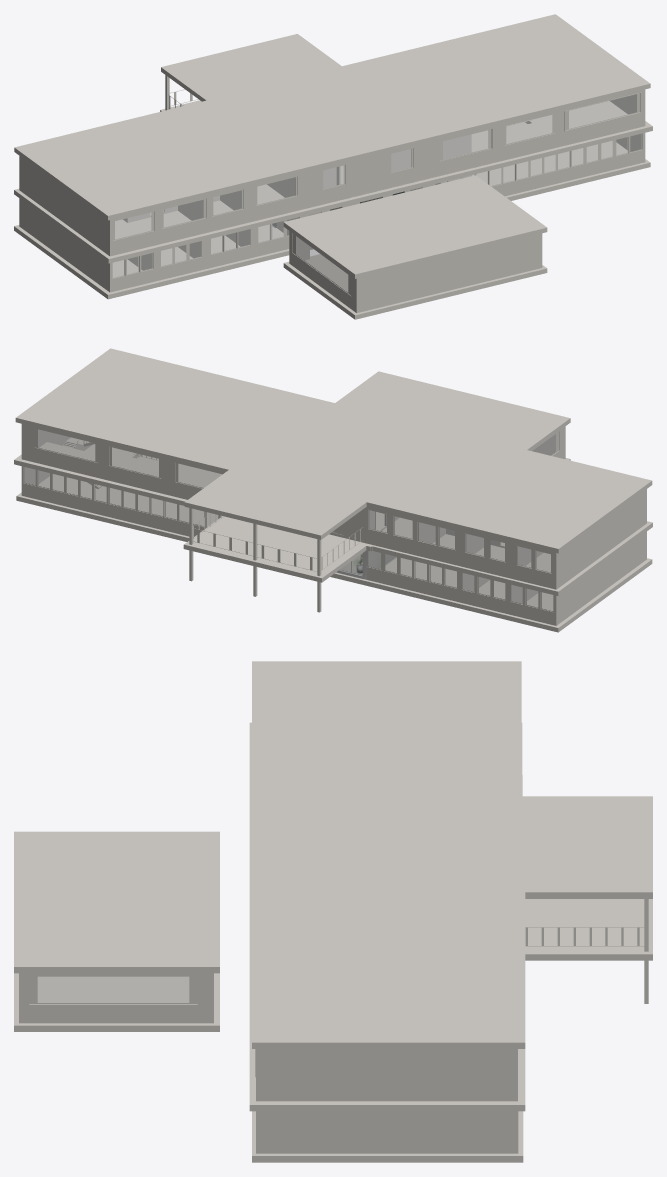
File: reception_walk.glb
3 views of the same model, one above another, from view 1: azimuth 30°, elevation 25°; view 2: azimuth 150°, elevation 25°; view 3: azimuth 270°, elevation 25° (orthographic). The views are drawn at different scales.
Visible parts, largest first — view 1: BEYOND_L2_SLAB, BEYOND_L1_WALL, BEYOND_L0_WALL, BEYOND_L0_SLAB, UPPER_in_zone, BEYOND_L1_SLAB, BEYOND_L1_GLASS, BEYOND_L0_GLASS, BEYOND_L1_FRAME, BEYOND_L0_FRAME, BEYOND_L1_OTHER, BEYOND_L0_OTHER; view 2: BEYOND_L2_SLAB, BEYOND_L1_WALL, BEYOND_L1_SLAB, BEYOND_L0_WALL, UPPER_in_zone, BEYOND_L0_SLAB, BEYOND_L1_GLASS, BEYOND_L0_GLASS, BEYOND_L0_FRAME, BEYOND_L1_FRAME, BEYOND_L1_OTHER, BEYOND_L1_STAIR (+4 smaller); view 3: BEYOND_L2_SLAB, UPPER_in_zone, BEYOND_L0_WALL, BEYOND_L1_WALL, BEYOND_L1_SLAB, BEYOND_L0_SLAB, BEYOND_L0_GLASS, BEYOND_L0_FRAME.
Boxes of the visible parts, left/top/right/bottom form: BEYOND_L2_SLAB: left=14, top=14, right=650, bottom=278; BEYOND_L1_WALL: left=19, top=89, right=645, bottom=256; BEYOND_L0_WALL: left=19, top=133, right=645, bottom=313; BEYOND_L0_SLAB: left=14, top=122, right=650, bottom=319; UPPER_in_zone: left=209, top=68, right=408, bottom=191; BEYOND_L1_SLAB: left=14, top=100, right=652, bottom=263; BEYOND_L1_GLASS: left=115, top=94, right=636, bottom=238; BEYOND_L0_GLASS: left=113, top=134, right=641, bottom=291; BEYOND_L1_FRAME: left=113, top=93, right=640, bottom=240; BEYOND_L0_FRAME: left=112, top=134, right=642, bottom=295; BEYOND_L1_OTHER: left=112, top=89, right=641, bottom=240; BEYOND_L0_OTHER: left=124, top=133, right=642, bottom=295; BEYOND_L2_SLAB: left=15, top=348, right=652, bottom=553; BEYOND_L1_WALL: left=21, top=424, right=646, bottom=589; BEYOND_L1_SLAB: left=14, top=442, right=652, bottom=596; BEYOND_L0_WALL: left=21, top=426, right=646, bottom=625; UPPER_in_zone: left=232, top=420, right=431, bottom=543; BEYOND_L0_SLAB: left=16, top=444, right=652, bottom=632; BEYOND_L1_GLASS: left=38, top=429, right=550, bottom=572; BEYOND_L0_GLASS: left=24, top=434, right=555, bottom=610; BEYOND_L0_FRAME: left=23, top=431, right=558, bottom=611; BEYOND_L1_FRAME: left=34, top=428, right=551, bottom=573; BEYOND_L1_OTHER: left=34, top=428, right=551, bottom=573; BEYOND_L1_STAIR: left=136, top=454, right=500, bottom=570; BEYOND_L2_SLAB: left=14, top=661, right=652, bottom=1048; UPPER_in_zone: left=328, top=797, right=519, bottom=891; BEYOND_L0_WALL: left=19, top=973, right=518, bottom=1153; BEYOND_L1_WALL: left=256, top=1049, right=517, bottom=1101; BEYOND_L1_SLAB: left=249, top=722, right=652, bottom=1111; BEYOND_L0_SLAB: left=14, top=775, right=523, bottom=1162; BEYOND_L0_GLASS: left=38, top=977, right=188, bottom=1002; BEYOND_L0_FRAME: left=29, top=976, right=197, bottom=1003.
Bounding box in the file's own units: 38.22 × 5.6 × 27.
Materials: 16 (12 with a texture image).
